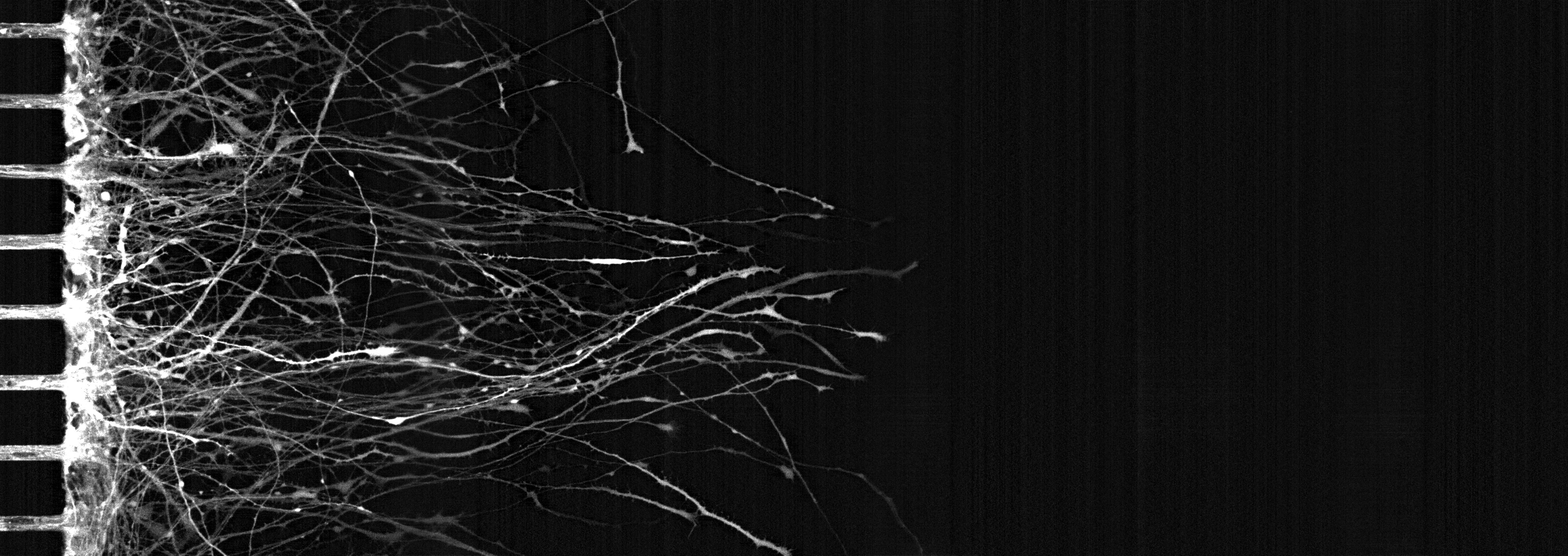tip: (633, 139, 645, 147), (837, 283, 845, 291), (876, 324, 879, 336), (815, 210, 819, 218), (832, 200, 834, 207), (917, 255, 918, 266), (822, 377, 822, 387)
